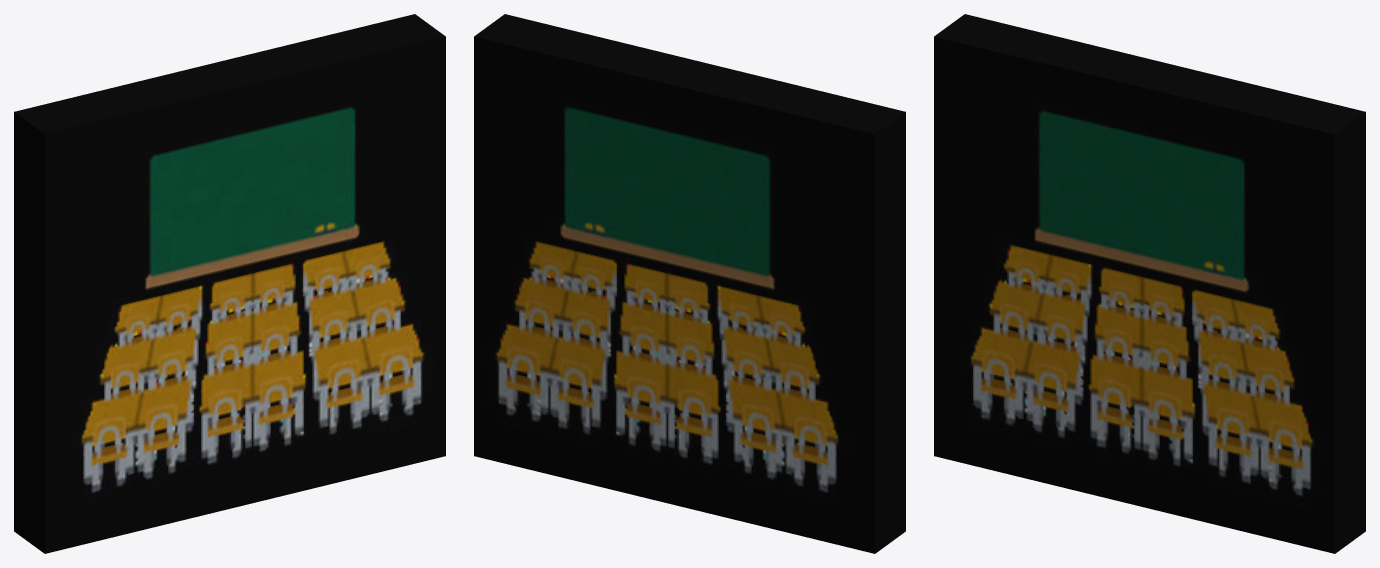
The model's file is classwork.fbx.
3 renders of one model, left to right at view 1: azimuth 30°, elevation 25°; view 2: azimuth 150°, elevation 25°; view 3: azimuth 330°, elevation 25°, orthographic.
Visible parts, largest first — view 1: pPlane1; view 2: pPlane1; view 3: pPlane1.
Boxes of the visible parts, <box> form: pPlane1: <box>14,14,445,553</box>; pPlane1: <box>474,14,905,553</box>; pPlane1: <box>934,14,1365,553</box>.
Size of the model in its own units: 0.9825 by 0.9825 by 0.1306.
Materials: 1 (1 with a texture image).
